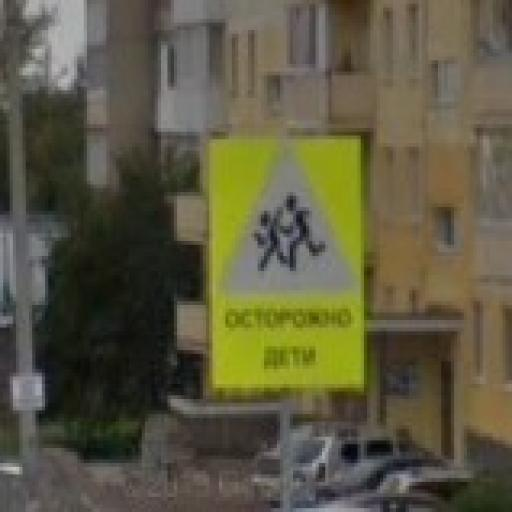traffic_sign: (217, 140, 365, 302)
